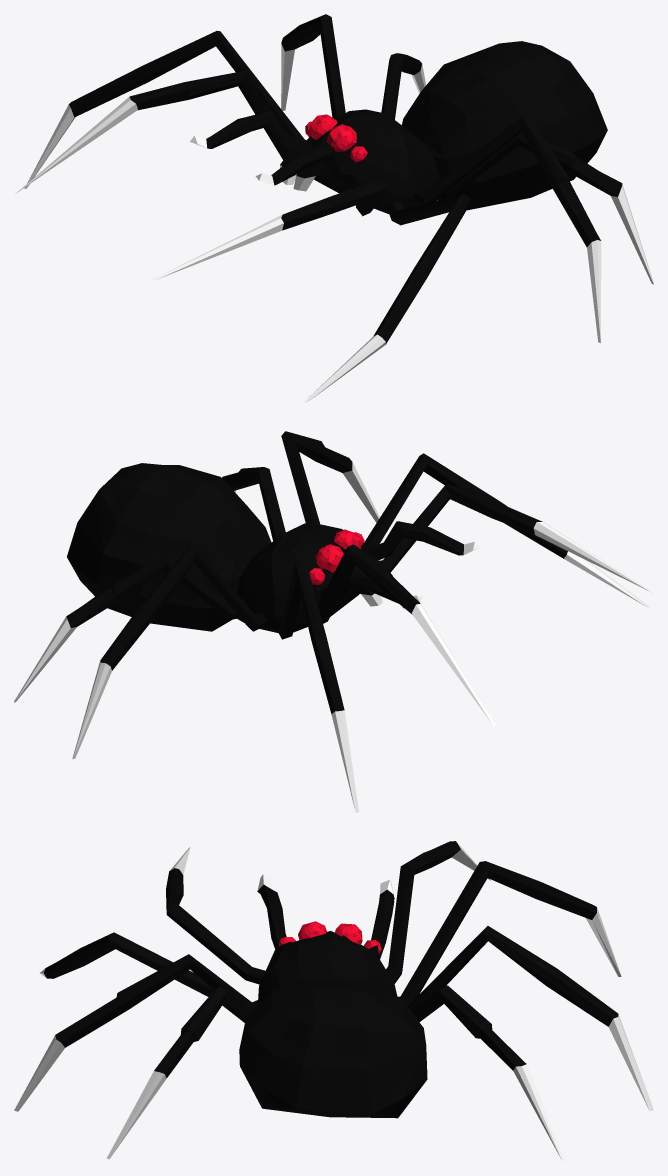
The model's file is spiderAttack3.obj.
3 renders of one model, top to bottom at view 1: azimuth 30°, elevation 25°; view 2: azimuth 150°, elevation 25°; view 3: azimuth 270°, elevation 25°, orthographic.
Visible parts, largest first — view 1: Cube.004_Cube.005; view 2: Cube.004_Cube.005; view 3: Cube.004_Cube.005.
Boxes of the visible parts, x1,y1,x2,y2 form: Cube.004_Cube.005: (15,14,653,402); Cube.004_Cube.005: (14,431,652,812); Cube.004_Cube.005: (14,841,653,1161).
Size of the model in its own units: 31.92 by 10.61 by 34.72.
